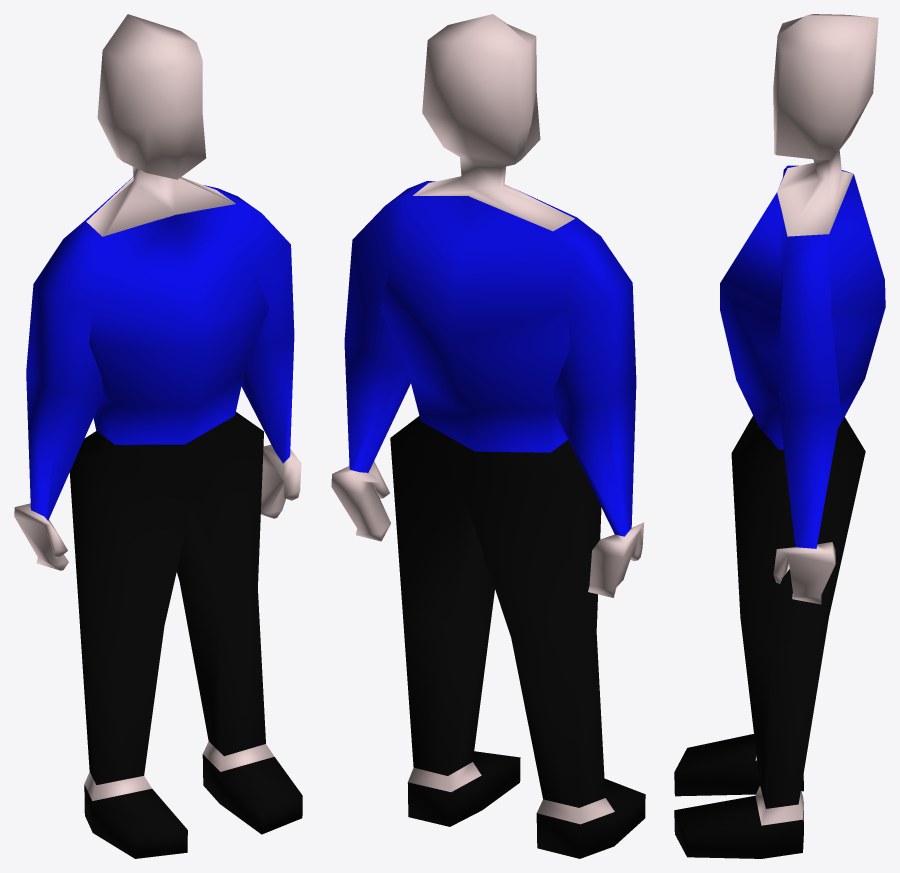
Rendered from poppetjeDB.gltf.
3 views of the same model, side by side, from view 1: azimuth 30°, elevation 25°; view 2: azimuth 150°, elevation 25°; view 3: azimuth 270°, elevation 25° (orthographic). The views are drawn at different scales.
Parts seen in each view (by area): view 1: Cube; view 2: Cube; view 3: Cube.
Part boxes in pixels (<box>): Cube: <box>14,14,302,858</box>; Cube: <box>331,14,645,858</box>; Cube: <box>674,14,885,858</box>.
Bounding box in the file's own units: 2.43 × 6.54 × 1.57.
